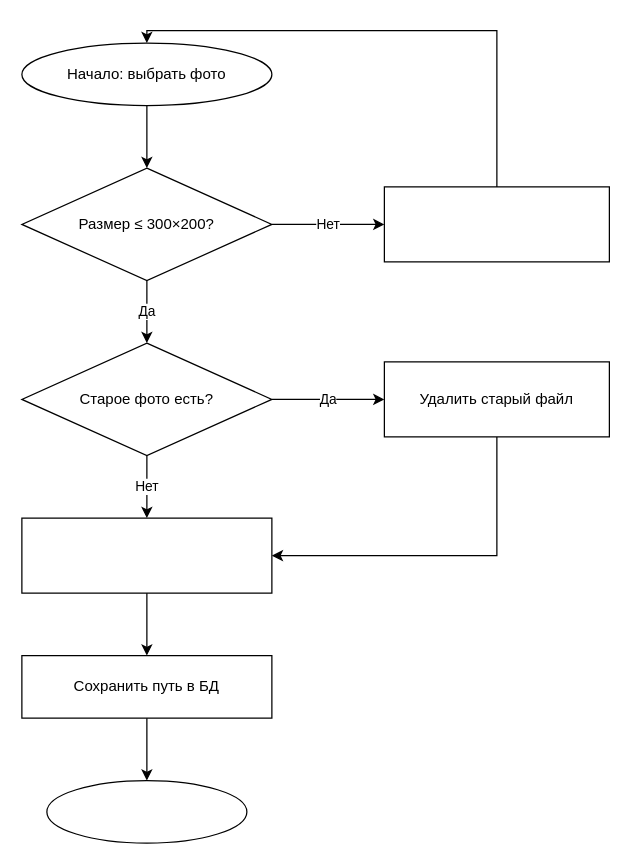
The diagram is 631 pixels wide and 865 high, and some of its shapes have lost their labels. Each missing label, with the centre of its shape:
Конец: the point at 146,811
Сообщение: the point at 496,224
Сохранить новый файл: the point at 146,555
